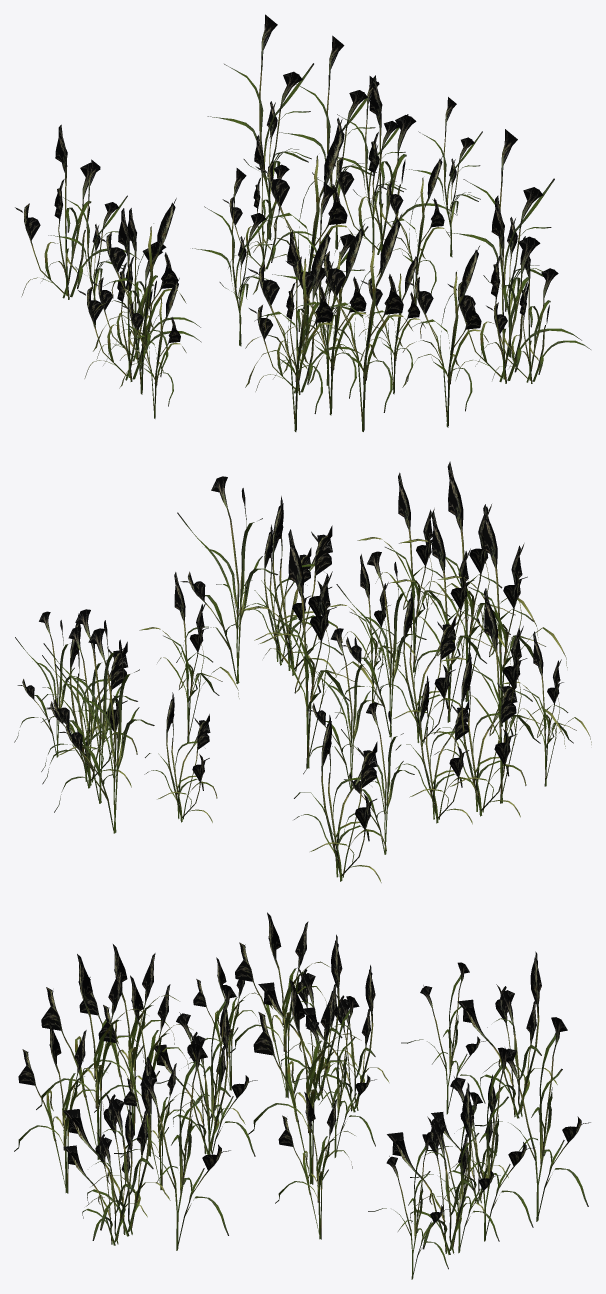
File: grass_patch.gltf
3 renders of one model, top to bottom at view 1: azimuth 30°, elevation 25°; view 2: azimuth 150°, elevation 25°; view 3: azimuth 270°, elevation 25°, orthographic. The views are drawn at different scales.
Parts seen in each view (by area): view 1: alpine_grass_patch.001; view 2: alpine_grass_patch.001; view 3: alpine_grass_patch.001.
Part boxes in pixels (left/top/right/bottom): alpine_grass_patch.001: left=15, top=14, right=590, bottom=431; alpine_grass_patch.001: left=14, top=461, right=591, bottom=882; alpine_grass_patch.001: left=14, top=912, right=590, bottom=1279.
Bounding box in the file's own units: 1.29 × 0.5846 × 1.39.
Materials: 1 (1 with a texture image).
